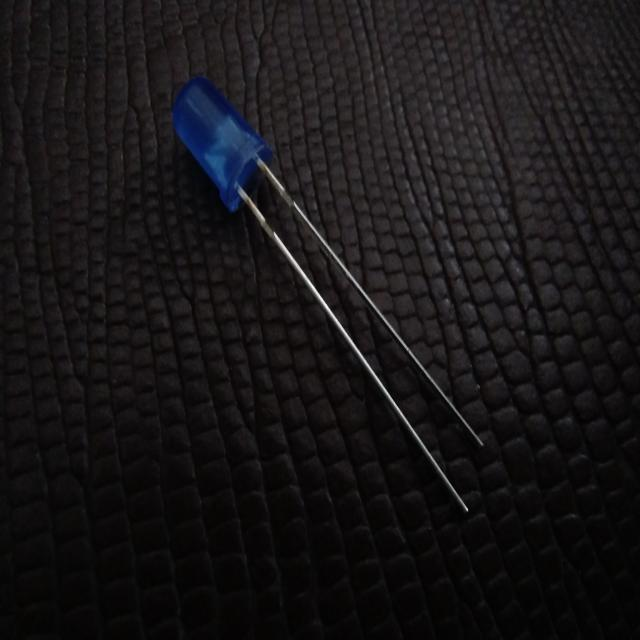blue_led: (171, 74, 274, 213)
